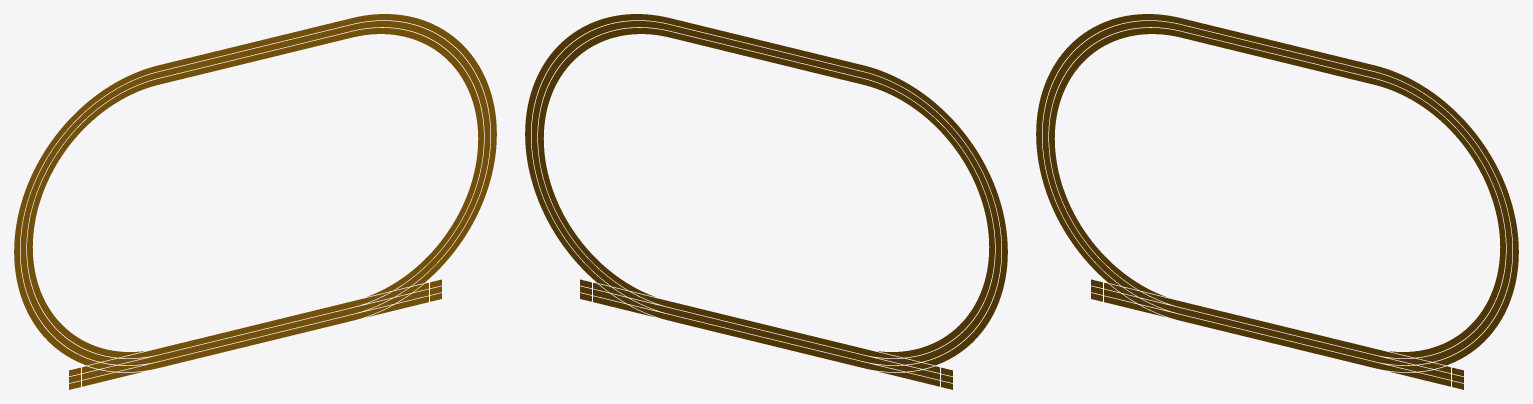
3 views of the same model, side by side, from view 1: azimuth 30°, elevation 25°; view 2: azimuth 150°, elevation 25°; view 3: azimuth 330°, elevation 25° (orthographic).
Size of the model in its own units: 74.9 by 44.9 by 0.
